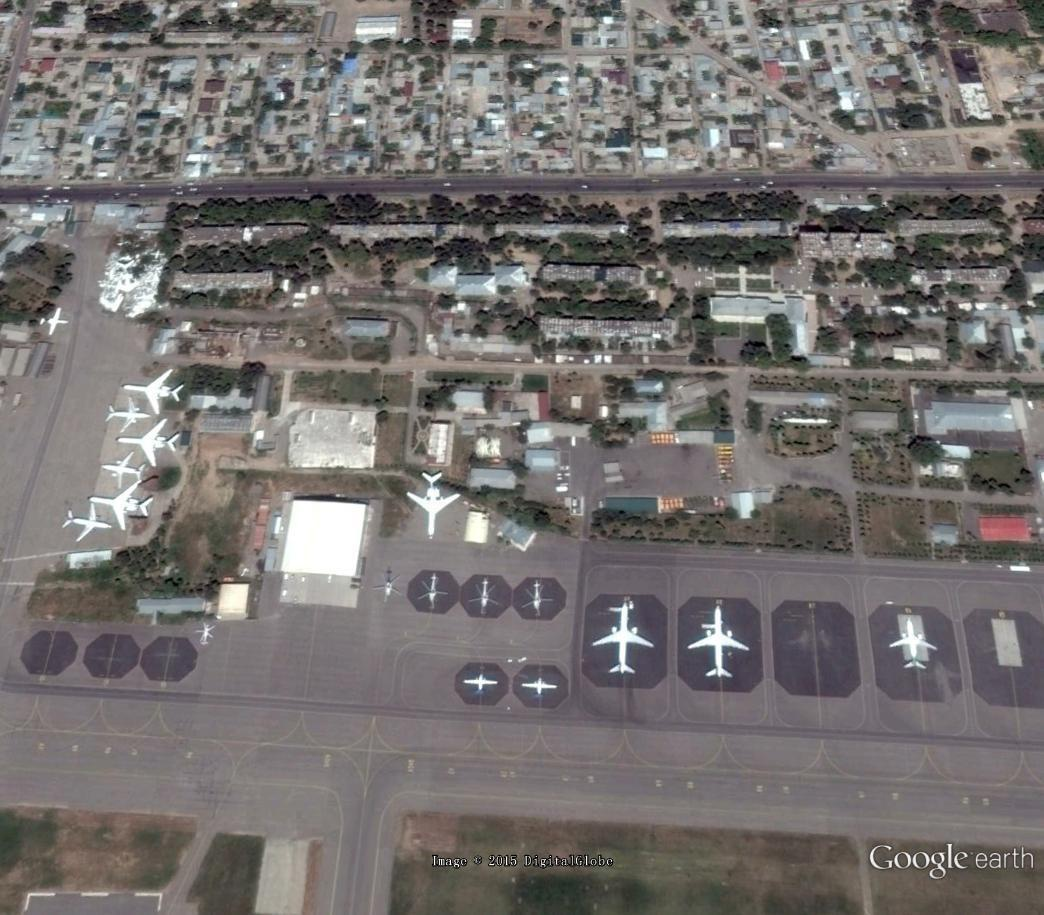aircraft: (681, 600, 756, 684), (588, 598, 658, 679), (405, 468, 463, 543), (114, 415, 181, 474), (87, 477, 157, 532), (120, 364, 189, 417), (886, 613, 943, 675), (60, 499, 118, 544), (102, 394, 153, 436), (99, 450, 150, 490), (34, 303, 76, 337), (519, 675, 562, 702), (462, 672, 502, 697)
